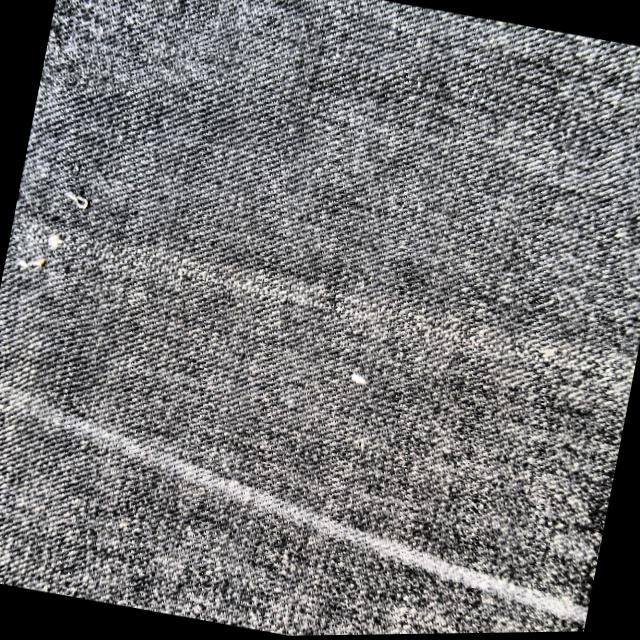Hole: (7, 188, 637, 391)
